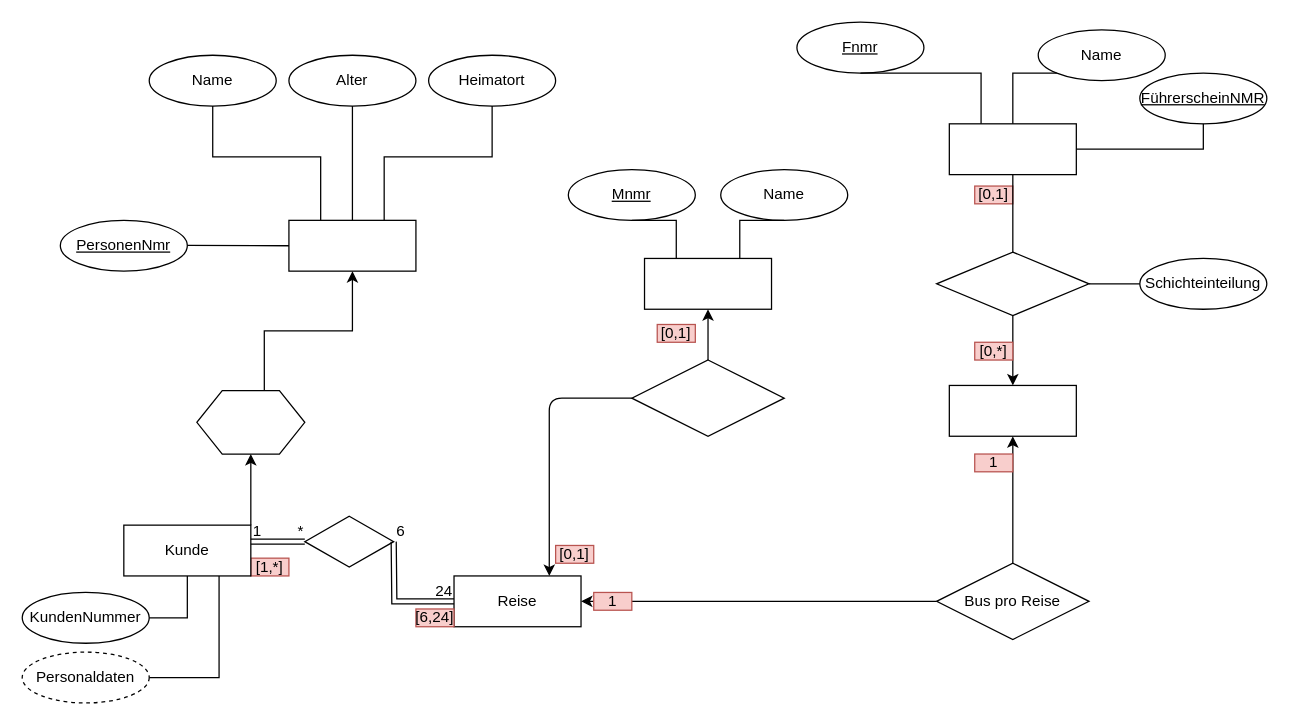
Image size: 1289x725. Some labels were removed from this diagram. Each missing label, with the centre of its shape:
"Bildung" goes at [349,541].
"Bus" goes at [1012,410].
"Busfahrer" goes at [1012,149].
"Fahrerzuordnung" goes at [1012,283].
"ISA" goes at [250,421].
"Leitung" goes at [707,397].
"Person" goes at [352,245].
"Reiseleitung" goes at [707,283].
